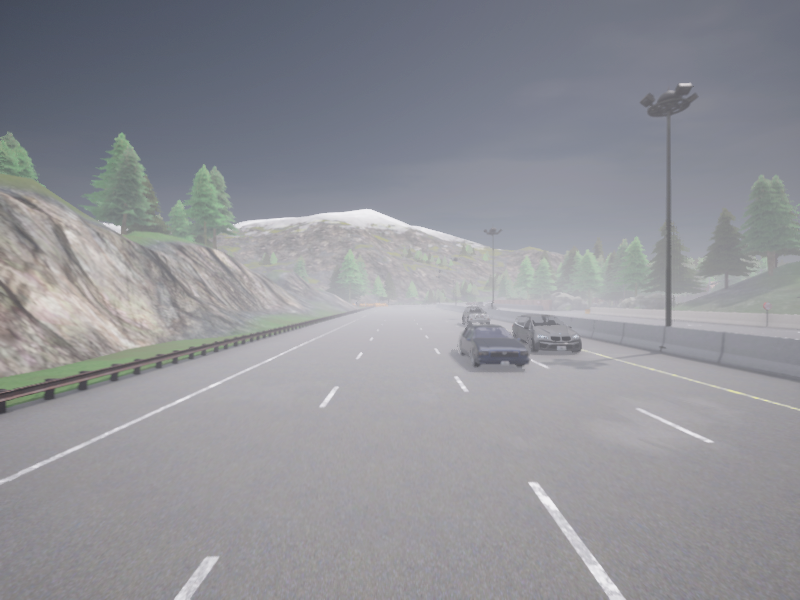vehicle: (458, 325, 530, 366), (512, 314, 581, 352), (462, 306, 489, 326), (484, 303, 495, 308), (476, 302, 483, 307), (467, 302, 472, 304), (473, 302, 477, 304)
